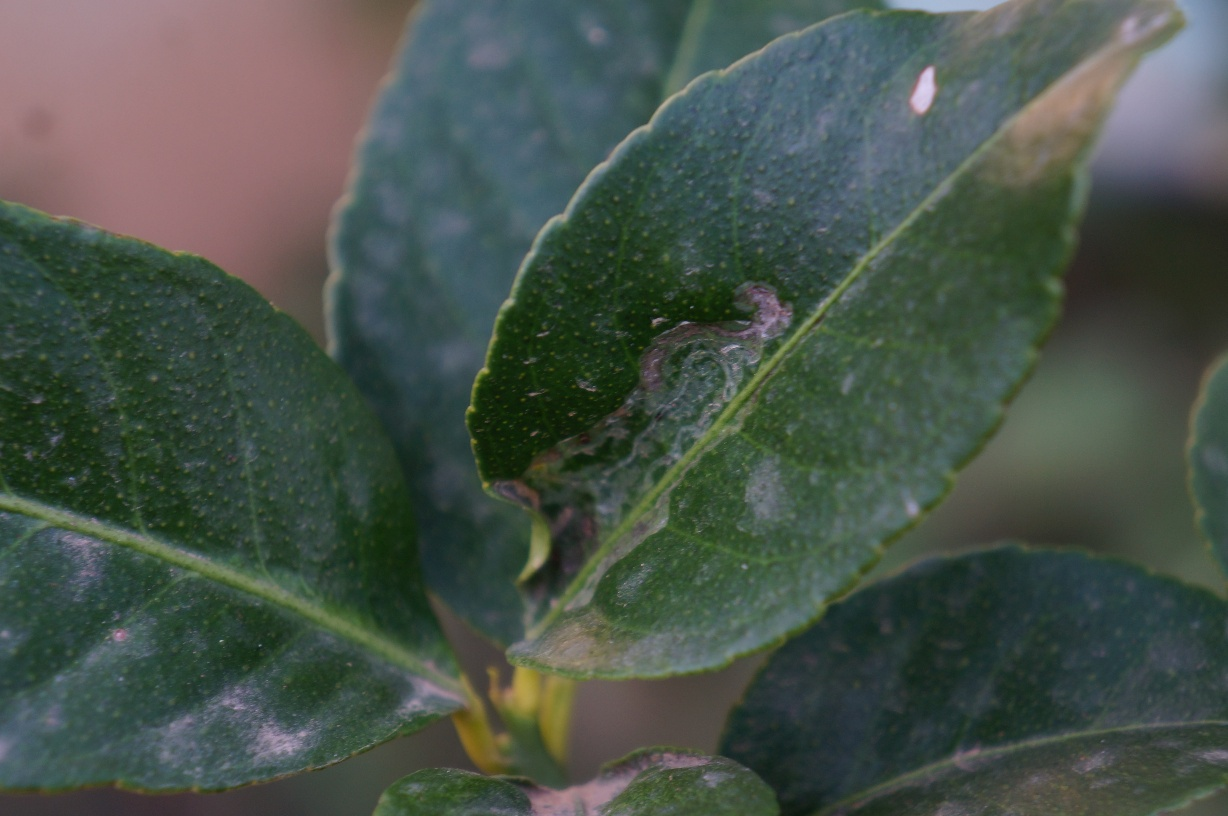damage: (543, 266, 786, 565)
